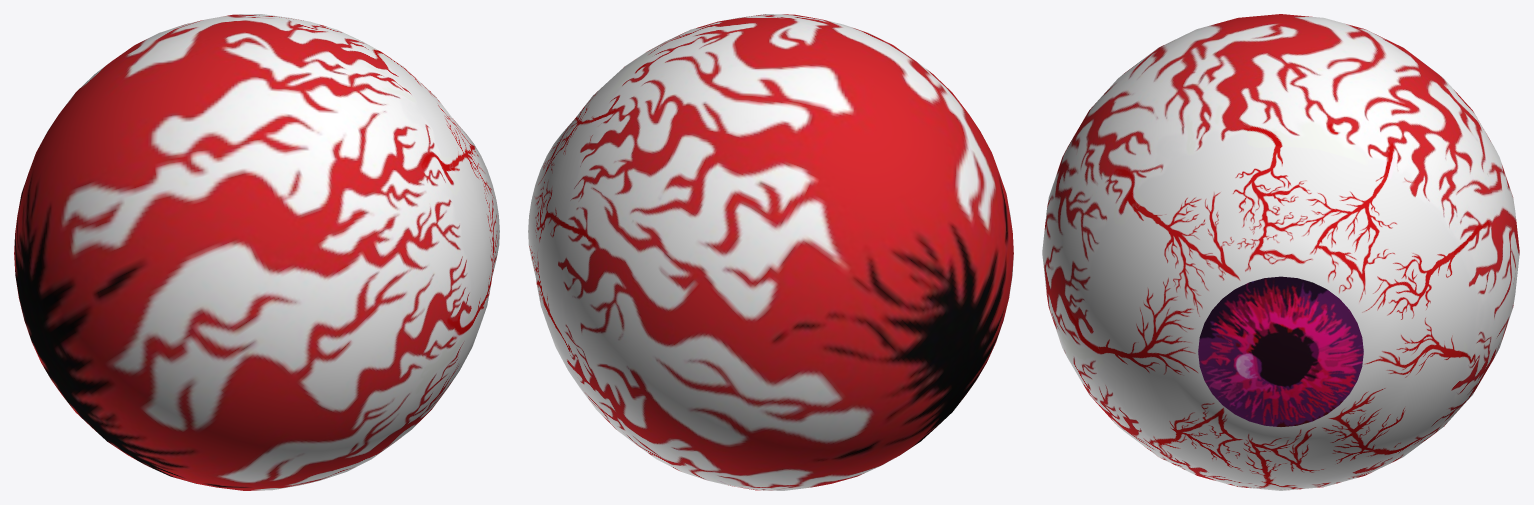
The model's file is occhione.glb.
3 renders of one model, left to right at view 1: azimuth 30°, elevation 25°; view 2: azimuth 150°, elevation 25°; view 3: azimuth 270°, elevation 25°, orthographic.
Parts seen in each view (by area): view 1: Sphere; view 2: Sphere; view 3: Sphere.
Part boxes in pixels (x1,y1,x2,y2): Sphere: (14,14,499,490); Sphere: (528,14,1013,490); Sphere: (1042,14,1519,490).
Bounding box in the file's own units: 2.06 × 2 × 2.
3 materials, 3 textured.
